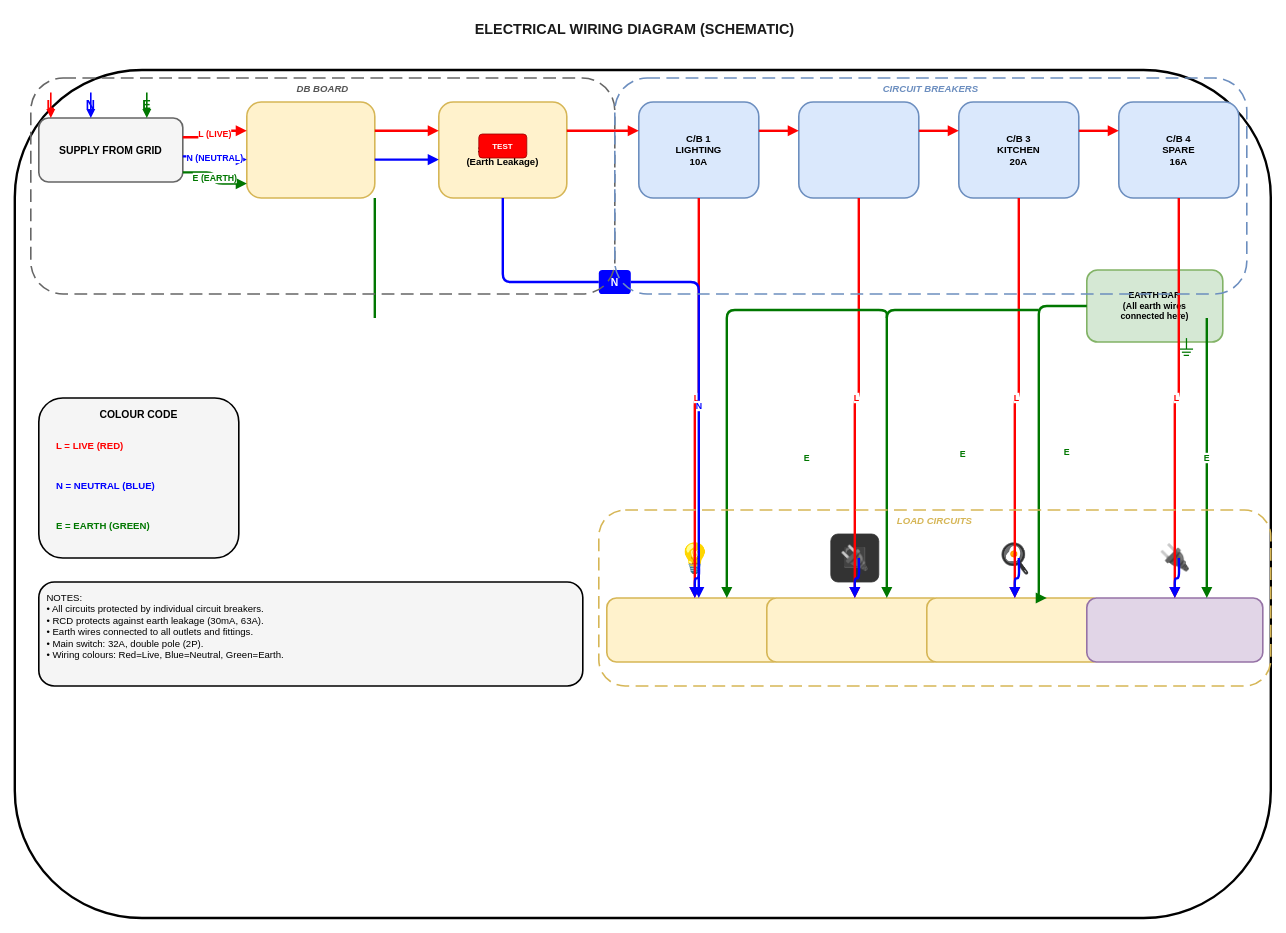
The diagram is 1286 pixels wide and 933 high, and some of its shapes have lost their labels. The shapes that lost their labels are listed below. From the top down, each one's centre as x and y in pixels, then its label:
At point (310, 149): "MAIN SWITCH 32A, 2P".
At point (858, 149): "C/B 2 SOCKETS 16A".
At point (694, 629): "LIGHTING CIRCUIT".
At point (854, 629): "SOCKET CIRCUIT".
At point (1014, 629): "KITCHEN CIRCUIT".
At point (1174, 629): "SPARE CIRCUIT".
